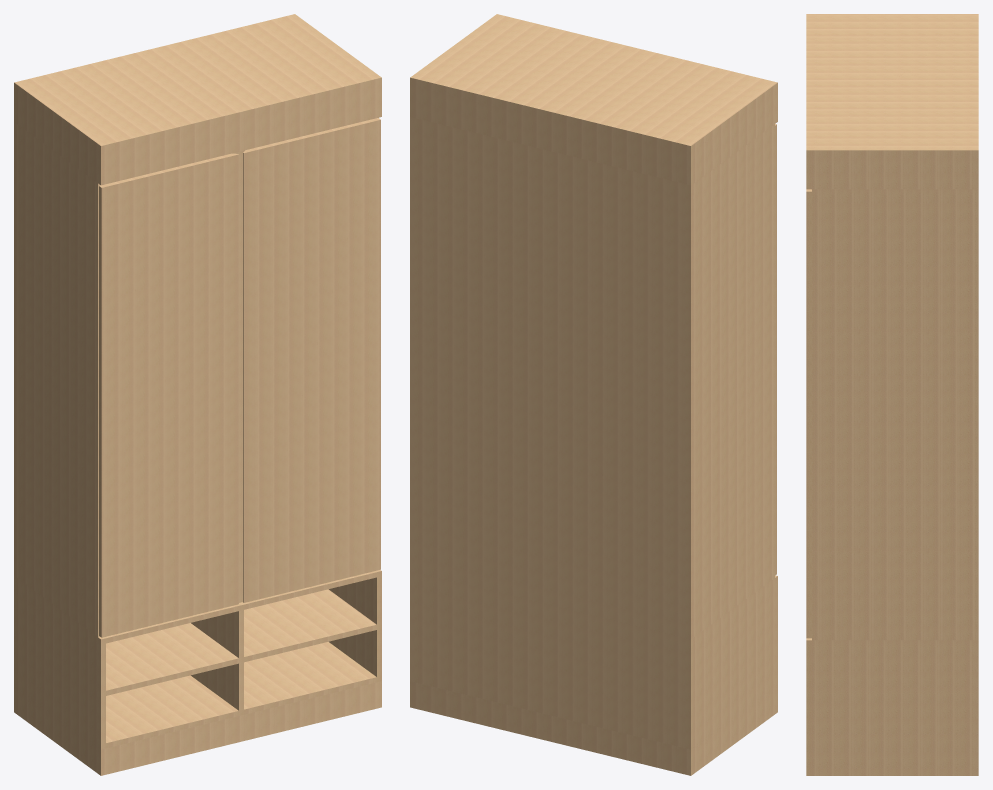
3 views of the same model, side by side, from view 1: azimuth 30°, elevation 25°; view 2: azimuth 150°, elevation 25°; view 3: azimuth 270°, elevation 25° (orthographic).
Visible parts, largest first — view 1: CSW_Sunray_Cabinet_Door_Sgl_Side-Finger_Groove Swing_Panel [ (×2), Casework-Sunray_Cabinet_Carcass_U-shape-bottom Cabinet_Carca, Extrusion [7673902], Casework-Sunray_Cabinet_Carcass Cabinet_Carcass [7673486], Extrusion [7673607], Casework-Sunray_Cabinet_Base.0001 Cabinet_Base [7673458], Extrusion [7673686], Extrusion [7673965]; view 2: Casework-Sunray_Cabinet_Carcass_U-shape-bottom Cabinet_Carca, Casework-Sunray_Cabinet_Carcass Cabinet_Carcass [7673486], Extrusion [7673902], Casework-Sunray_Cabinet_Base.0001 Cabinet_Base [7673458], CSW_Sunray_Cabinet_Door_Sgl_Side-Finger_Groove Swing_Panel [; view 3: Casework-Sunray_Cabinet_Carcass_U-shape-bottom Cabinet_Carca, Extrusion [7673902], Casework-Sunray_Cabinet_Carcass Cabinet_Carcass [7673486], Casework-Sunray_Cabinet_Base.0001 Cabinet_Base [7673458], CSW_Sunray_Cabinet_Door_Sgl_Side-Finger_Groove Swing_Panel [.
Part boxes in pixels (x1,y1,x2,y2): CSW_Sunray_Cabinet_Door_Sgl_Side-Finger_Groove Swing_Panel [ (×2): [99, 118, 380, 637]; Casework-Sunray_Cabinet_Carcass_U-shape-bottom Cabinet_Carca: [14, 117, 378, 637]; Extrusion [7673902]: [14, 14, 381, 185]; Casework-Sunray_Cabinet_Carcass Cabinet_Carcass [7673486]: [14, 570, 381, 749]; Extrusion [7673607]: [106, 589, 376, 695]; Casework-Sunray_Cabinet_Base.0001 Cabinet_Base [7673458]: [14, 681, 381, 775]; Extrusion [7673686]: [191, 610, 243, 710]; Extrusion [7673965]: [239, 153, 243, 602]; Casework-Sunray_Cabinet_Carcass_U-shape-bottom Cabinet_Carca: [410, 117, 774, 639]; Casework-Sunray_Cabinet_Carcass Cabinet_Carcass [7673486]: [410, 571, 777, 749]; Extrusion [7673902]: [410, 14, 777, 185]; Casework-Sunray_Cabinet_Base.0001 Cabinet_Base [7673458]: [410, 681, 777, 775]; CSW_Sunray_Cabinet_Door_Sgl_Side-Finger_Groove Swing_Panel [: [775, 124, 776, 575]; Casework-Sunray_Cabinet_Carcass_U-shape-bottom Cabinet_Carca: [812, 189, 978, 640]; Extrusion [7673902]: [806, 14, 978, 189]; Casework-Sunray_Cabinet_Carcass Cabinet_Carcass [7673486]: [806, 638, 978, 749]; Casework-Sunray_Cabinet_Base.0001 Cabinet_Base [7673458]: [806, 750, 978, 775]; CSW_Sunray_Cabinet_Door_Sgl_Side-Finger_Groove Swing_Panel [: [806, 189, 811, 638].
Size of the model in its own units: 44.09 by 94.49 by 23.62.
2 materials, 1 textured.
